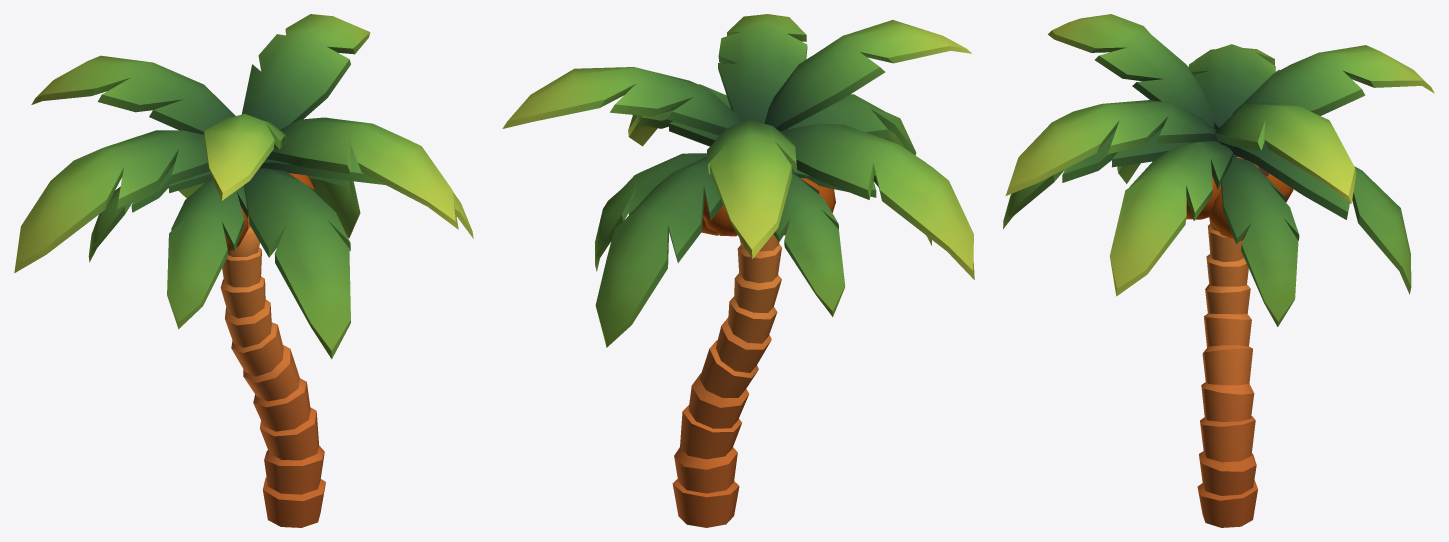
Rendered from SM_PalmTree.fbx.
3 views of the same model, side by side, from view 1: azimuth 30°, elevation 25°; view 2: azimuth 150°, elevation 25°; view 3: azimuth 270°, elevation 25° (orthographic). The views are drawn at different scales.
Visible parts, largest first — view 1: SM_PalmTree; view 2: SM_PalmTree; view 3: SM_PalmTree.
Boxes of the visible parts, left/top/right/bottom form: SM_PalmTree: left=14, top=14, right=473, bottom=527; SM_PalmTree: left=502, top=14, right=974, bottom=527; SM_PalmTree: left=1003, top=14, right=1434, bottom=527.
Size of the model in its own units: 8.44 by 9.17 by 8.14.
